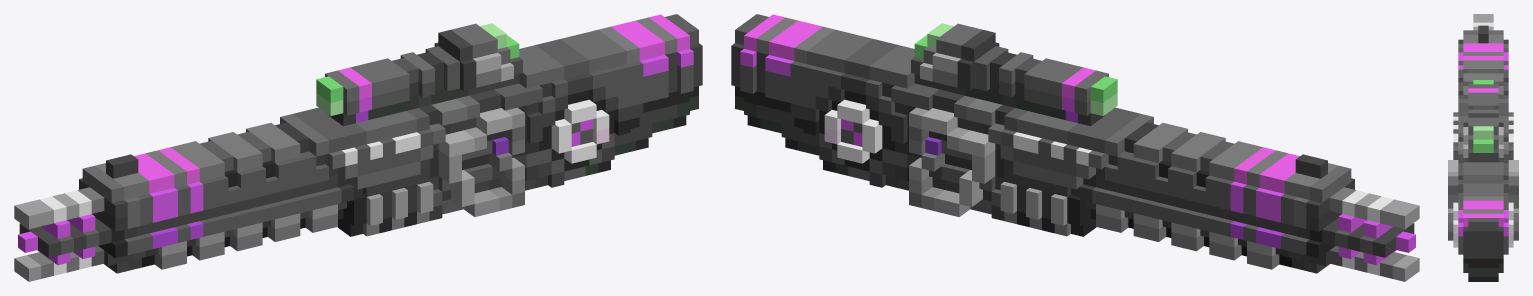
File: Blaster_YUK_Vallume.obj
The picture shows the model from 3 angles, left to right: view 1: azimuth 30°, elevation 25°; view 2: azimuth 150°, elevation 25°; view 3: azimuth 270°, elevation 25°; orthographic projection. The views are drawn at different scales.
Bounding box in the file's own units: 53 × 12 × 7.
